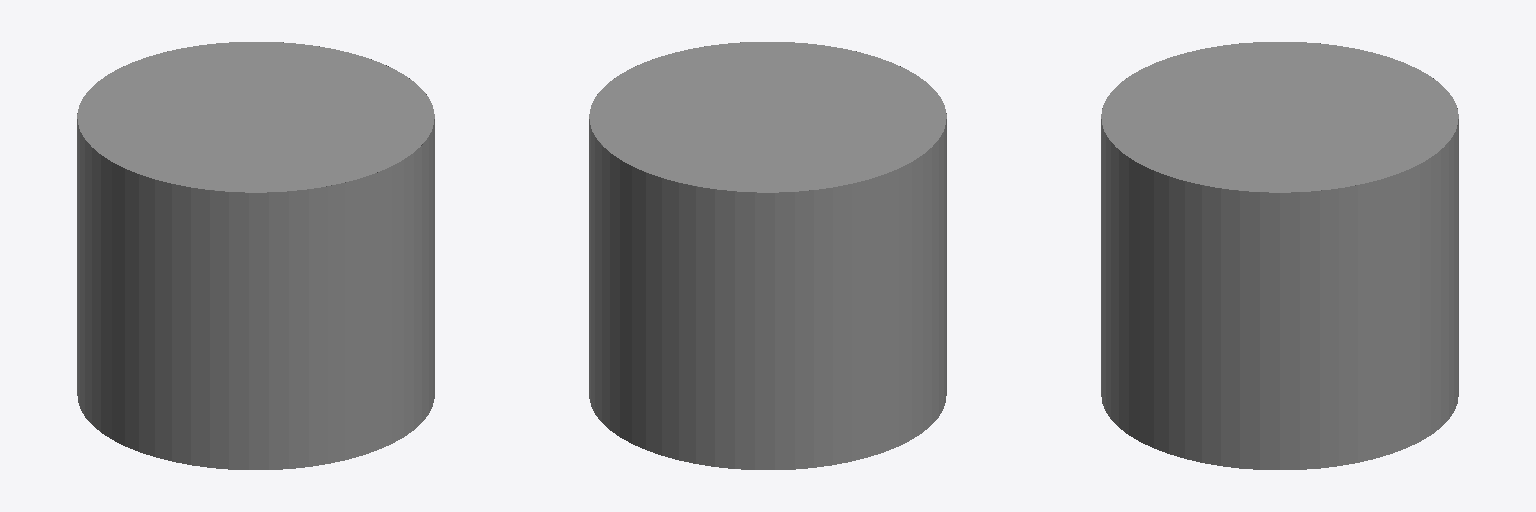
3 views of the same model, side by side, from view 1: azimuth 30°, elevation 25°; view 2: azimuth 150°, elevation 25°; view 3: azimuth 270°, elevation 25° (orthographic).
Visible parts, largest first — view 1: Body1; view 2: Body1; view 3: Body1.
Part boxes in pixels (x1,y1,x2,y2): Body1: (77, 42, 434, 469); Body1: (589, 42, 946, 469); Body1: (1101, 42, 1458, 469).
Bounding box in the file's own units: 0.14 × 0.12 × 0.14.